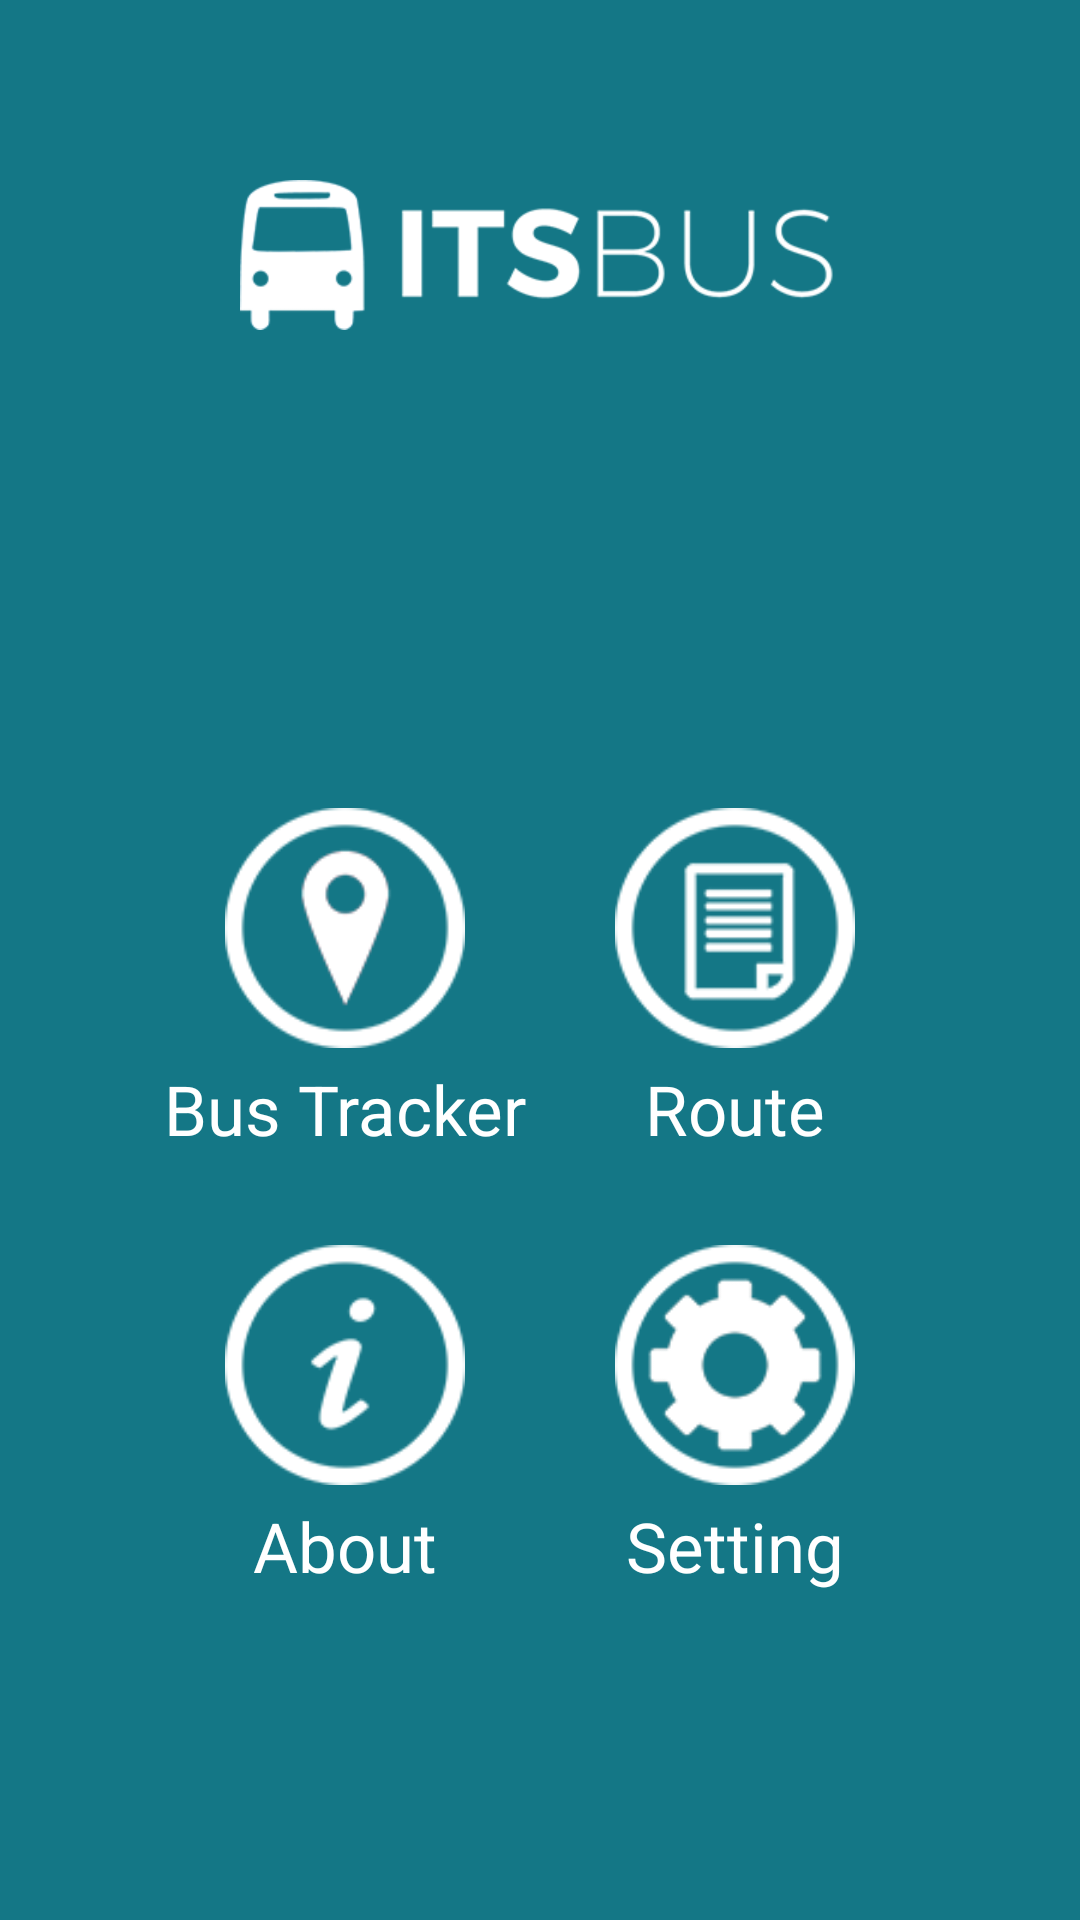

Where icons sit on this 1080x1920 app screen, as (x1, y1, x2, y2):
menuschedule: (615, 808, 855, 1048)
